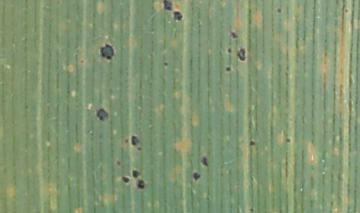tarspot: (98, 41, 114, 60), (95, 108, 109, 121), (171, 8, 183, 23), (237, 48, 247, 62), (163, 1, 174, 13), (200, 155, 209, 167), (120, 174, 130, 184), (130, 168, 140, 178), (131, 135, 140, 146), (137, 178, 146, 189), (192, 170, 200, 182), (230, 29, 238, 40), (283, 133, 291, 144), (275, 4, 282, 14), (162, 59, 170, 67), (224, 64, 232, 72), (248, 139, 256, 147), (22, 103, 30, 110), (77, 57, 85, 64), (226, 46, 233, 54), (124, 136, 130, 144), (343, 7, 349, 15), (249, 206, 255, 213), (116, 160, 122, 166), (136, 146, 142, 151)
